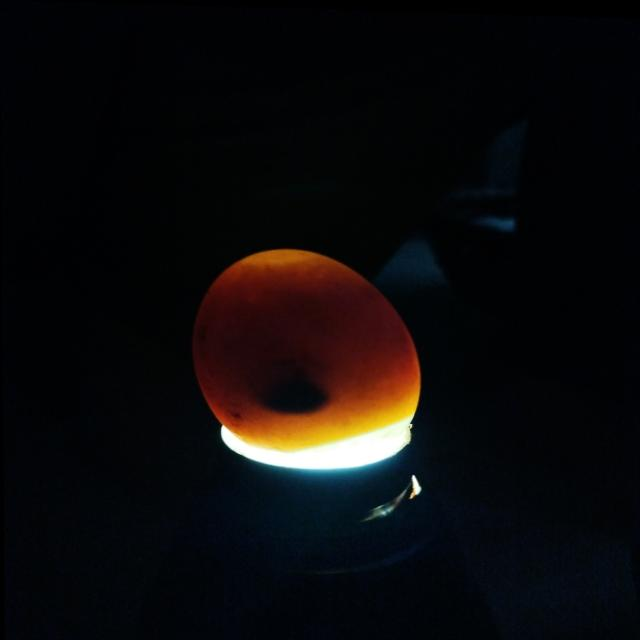Area Infectada: (197, 293, 333, 423)
